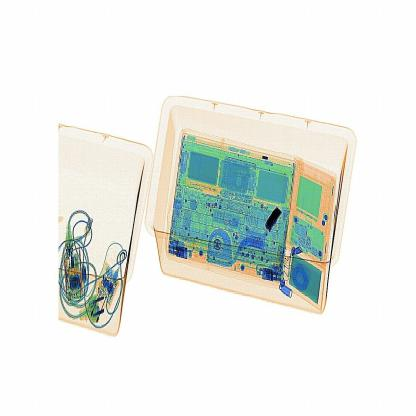scissors: (257, 205, 286, 235)
